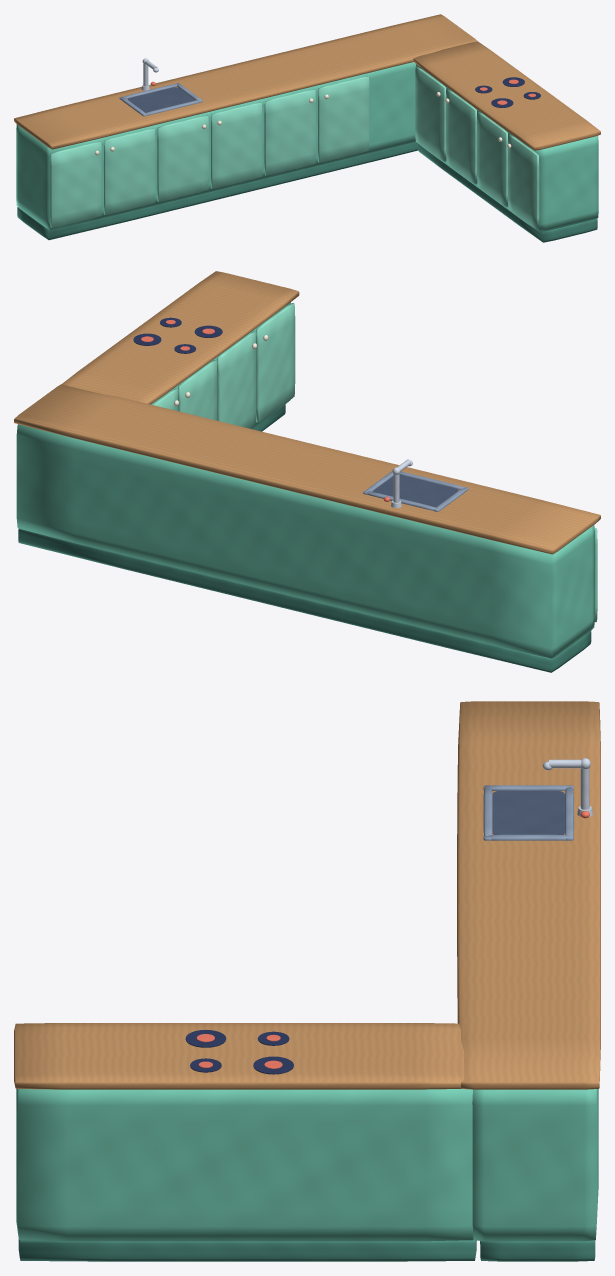
Rendered from 卡通橱柜.glb.
The picture shows the model from 3 angles, top to bottom: view 1: azimuth 30°, elevation 25°; view 2: azimuth 150°, elevation 25°; view 3: azimuth 270°, elevation 25°; orthographic projection. The views are drawn at different scales.
Visible parts, largest first — view 1: CounterCartoon_Body, CounterCartoon_Doors, CounterCartoon_SinkStove; view 2: CounterCartoon_Body, CounterCartoon_Doors, CounterCartoon_SinkStove; view 3: CounterCartoon_Body, CounterCartoon_SinkStove.
Part boxes in pixels (x1,y1,x2,y2): CounterCartoon_Body: (14, 14, 600, 242); CounterCartoon_Doors: (50, 66, 539, 229); CounterCartoon_SinkStove: (119, 58, 540, 116); CounterCartoon_Body: (14, 271, 600, 672); CounterCartoon_Doors: (152, 303, 597, 622); CounterCartoon_SinkStove: (133, 317, 468, 511); CounterCartoon_Body: (14, 701, 600, 1261); CounterCartoon_SinkStove: (185, 758, 592, 1074).
Size of what is drawn, in the model's own units: 4 by 1.17 by 2.6.
10 materials, 10 textured.
